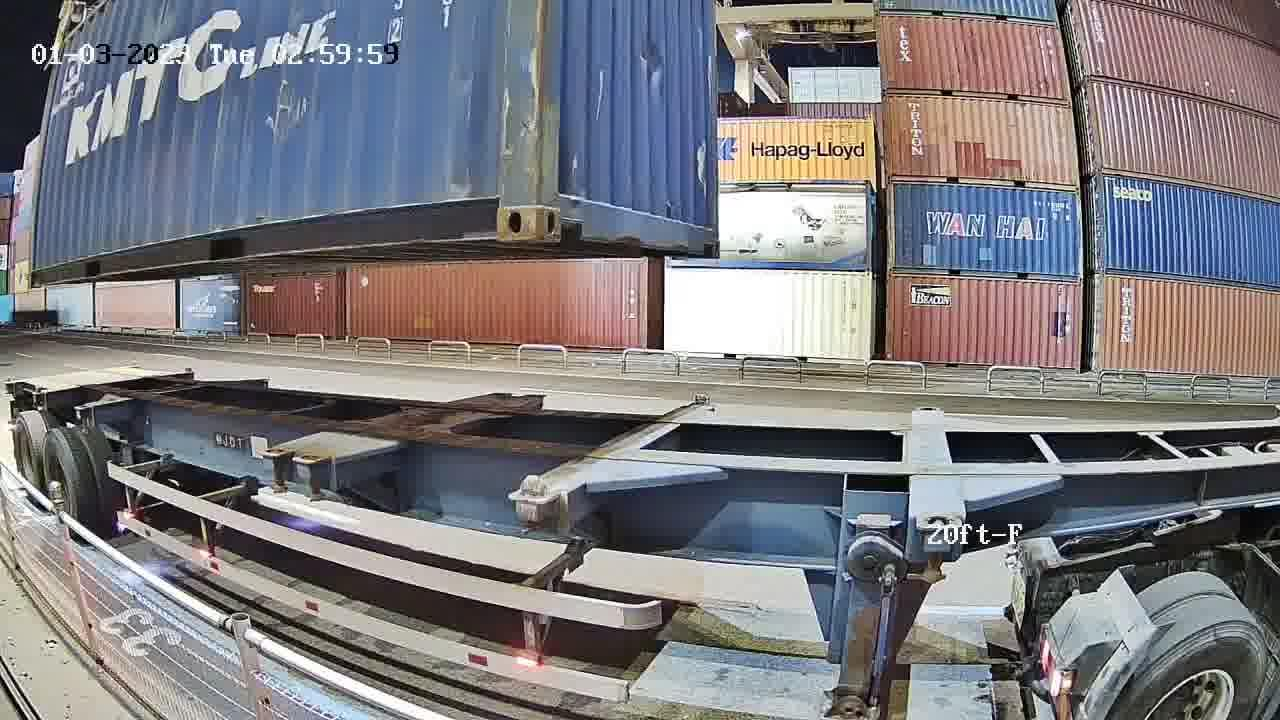Chassis: (506, 398, 723, 505)
Cone: (512, 470, 550, 527)
Hole_L: (536, 171, 592, 240)
Hole_R: (463, 171, 536, 241), (694, 215, 722, 257)
Tire: (43, 429, 81, 533), (17, 414, 41, 497)
